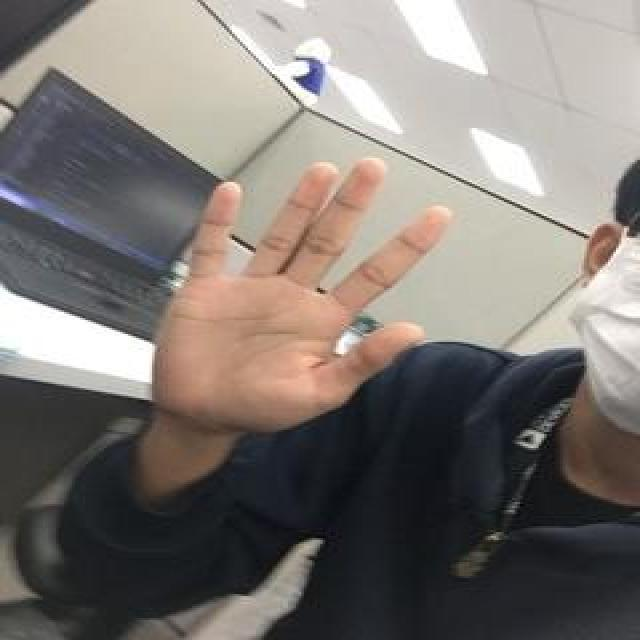no-gloves: (146, 151, 462, 427)
